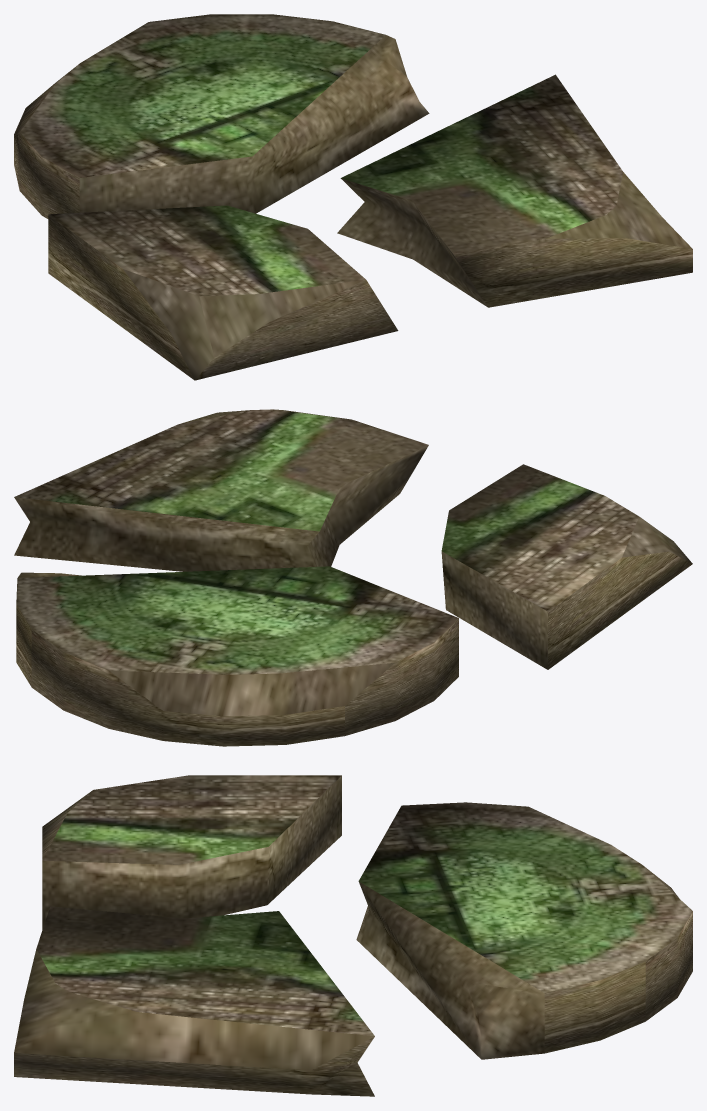
Rendered from GS_MISC_CRACKED_STONEPLATE_08_GALI.glb.
The picture shows the model from 3 angles, top to bottom: view 1: azimuth 30°, elevation 25°; view 2: azimuth 150°, elevation 25°; view 3: azimuth 270°, elevation 25°; orthographic projection. The views are drawn at different scales.
Visible parts, largest first — view 1: Mesh; view 2: Mesh; view 3: Mesh.
Boxes of the visible parts, x1=… form: Mesh: x1=14, y1=14, x2=692, y2=380; Mesh: x1=14, y1=409, x2=692, y2=746; Mesh: x1=14, y1=775, x2=692, y2=1096.
Size of the model in its own units: 0.5557 by 0.0599 by 0.6109.
Materials: 1 (1 with a texture image).
